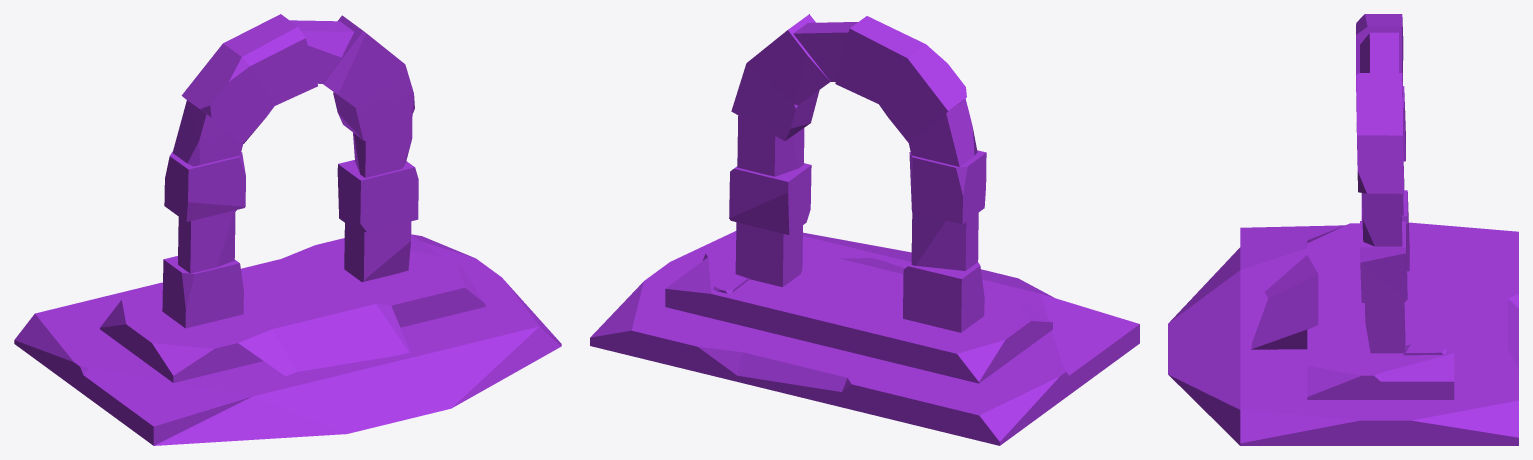
The model's file is change portal.fbx.
The picture shows the model from 3 angles, left to right: view 1: azimuth 30°, elevation 25°; view 2: azimuth 150°, elevation 25°; view 3: azimuth 270°, elevation 25°; orthographic projection.
Visible parts, largest first — view 1: Portal; view 2: Portal; view 3: Portal.
Boxes of the visible parts, box(x1,y1,x2,y2) form: Portal: box(14, 14, 561, 445); Portal: box(590, 14, 1139, 445); Portal: box(1168, 14, 1518, 445).
Size of the model in its own units: 641 by 483 by 478.
